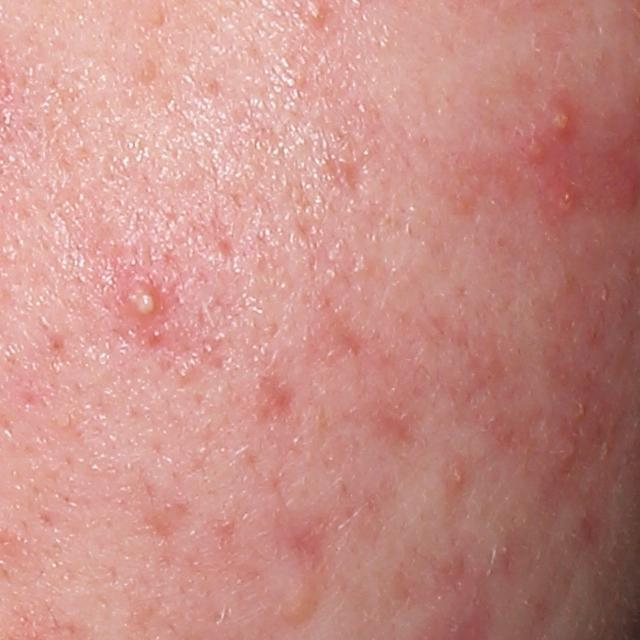atrophic_scar: (341, 152, 377, 190)
pustule: (124, 283, 158, 318), (547, 105, 570, 133)
